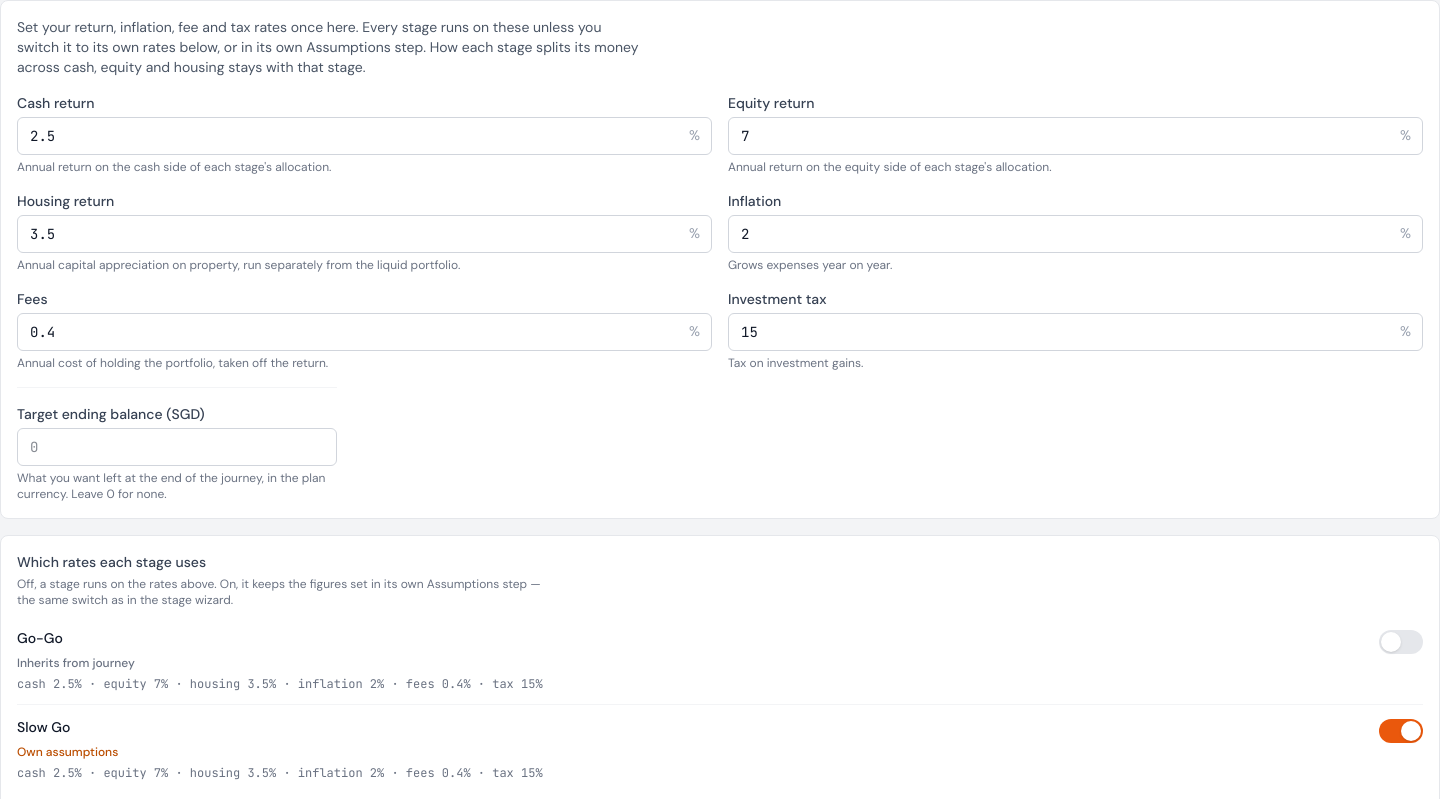
Scenario: JourneyAssumptionsSection › choosing which rates a stage uses › says so beside the stage when the write fails, and refreshes nothing
This screenshot has width=1440, height=799.
Click the switch named "Own rates for Go-Go": (1401,642) [1379, 630, 1423, 654]
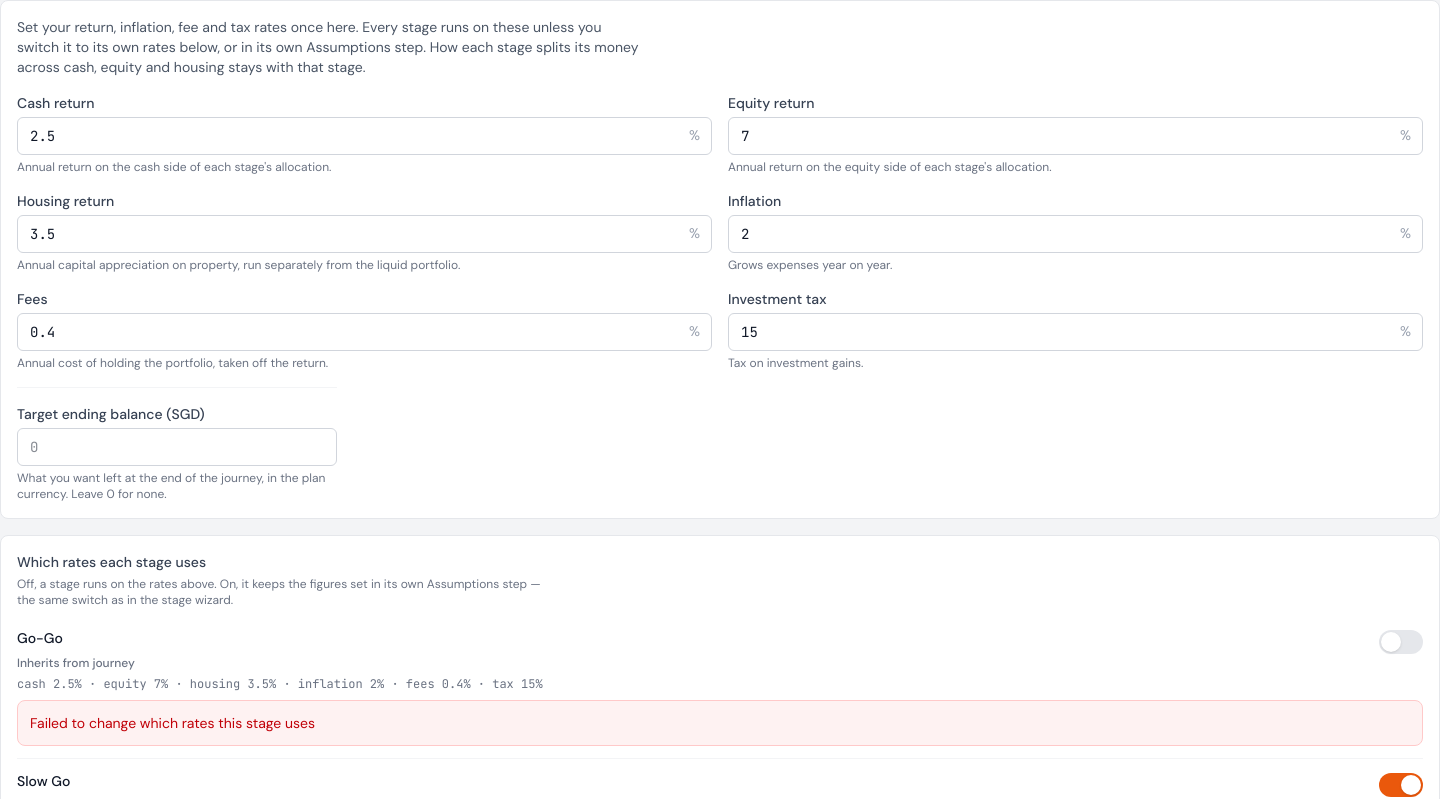
Expected: the text "Failed to change which rates this stage uses" is shown, [17, 700, 1423, 746]
